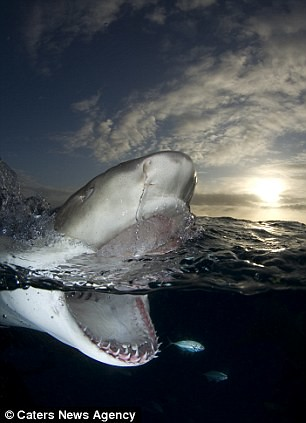shark: (1, 140, 227, 370)
